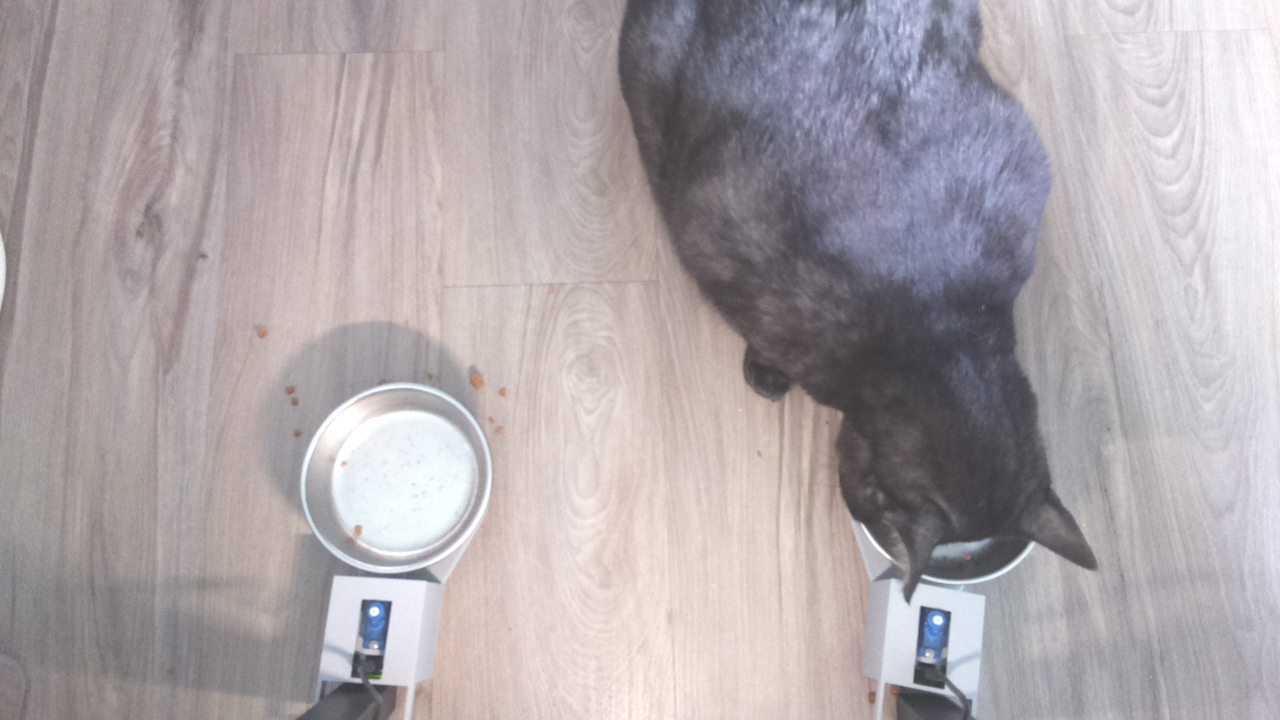open_bowl: (300, 378, 493, 576)
saki_eating: (820, 336, 1108, 605)
